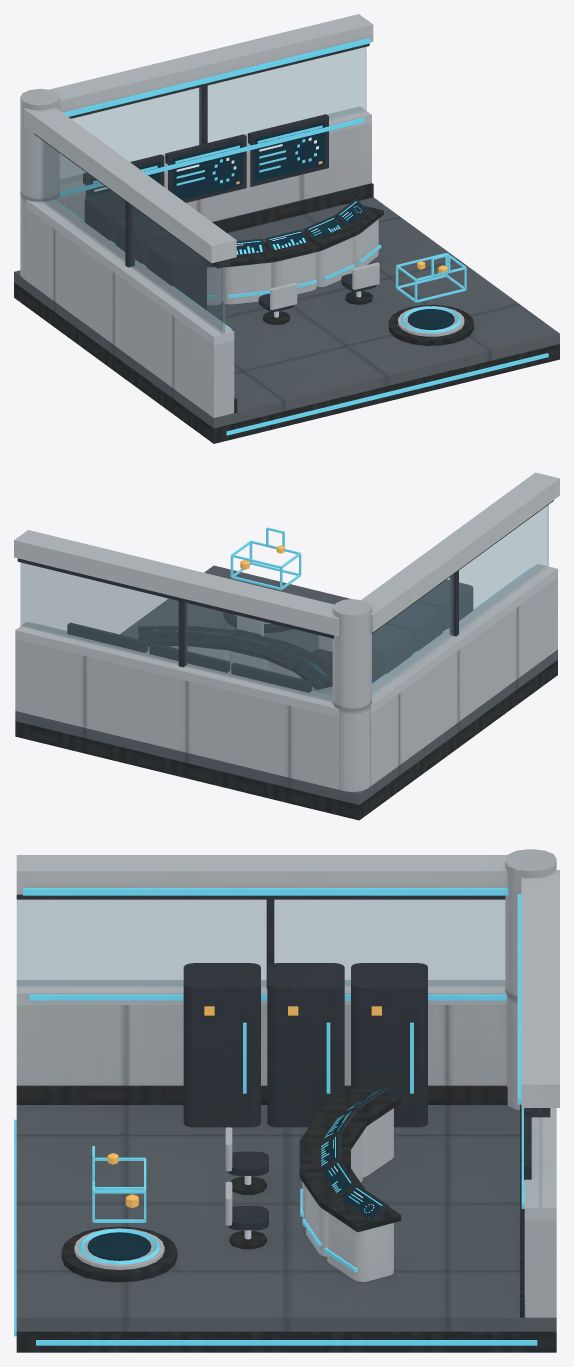
File: enterprise_security_hq.glb
The picture shows the model from 3 angles, top to bottom: view 1: azimuth 30°, elevation 25°; view 2: azimuth 150°, elevation 25°; view 3: azimuth 270°, elevation 25°; orthographic projection. The views are drawn at different scales.
Visible parts, largest first — view 1: te_enterprise_security_hq; view 2: te_enterprise_security_hq; view 3: te_enterprise_security_hq.
Part boxes in pixels (x1,y1,x2,y2): te_enterprise_security_hq: (14,14,559,443); te_enterprise_security_hq: (14,472,559,820); te_enterprise_security_hq: (14,849,559,1352).
Bounding box in the file's own units: 0.849 × 0.472 × 0.849.
Materials: 2 (1 with a texture image).
